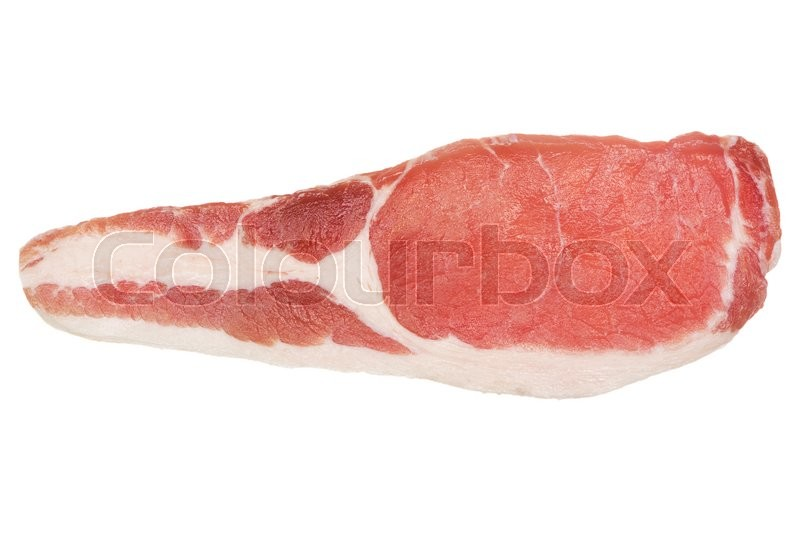bacon: (51, 113, 780, 433)
